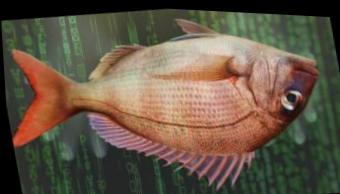fish: (10, 15, 319, 188)
